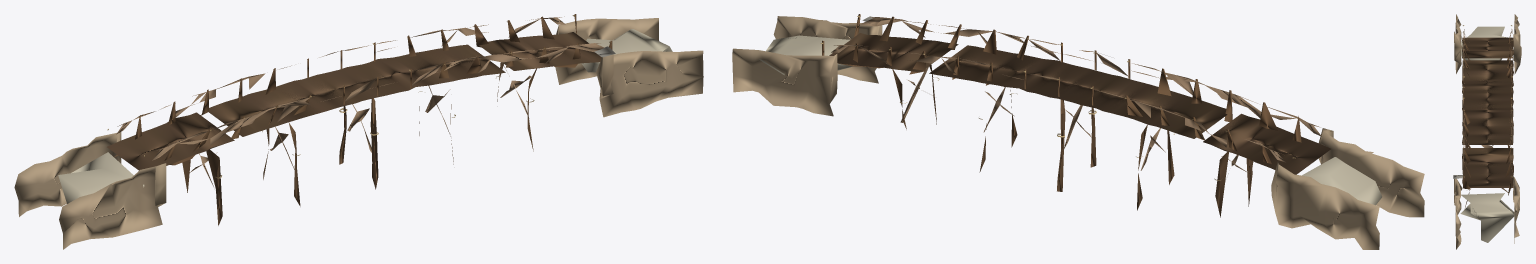
Rendered from country_bridge_timber.glb.
The picture shows the model from 3 angles, left to right: view 1: azimuth 30°, elevation 25°; view 2: azimuth 150°, elevation 25°; view 3: azimuth 270°, elevation 25°; orthographic projection. The views are drawn at different scales.
Visible parts, largest first — view 1: drystone, plank, wood_dark, wood, paving; view 2: drystone, plank, wood_dark, wood, paving; view 3: plank, paving, drystone, wood_dark, wood, rope.
Boxes of the visible parts, x1,y1,x2,y2 form: drystone: (14,18,703,249); plank: (107,32,601,170); wood_dark: (114,14,612,225); wood: (116,16,604,186); paving: (58,29,672,203); drystone: (732,16,1424,249); plank: (829,33,1330,174); wood_dark: (822,14,1301,217); wood: (831,17,1321,180); paving: (759,35,1382,205); plank: (1462,37,1513,187); paving: (1460,26,1515,242); drystone: (1454,14,1521,249); wood_dark: (1463,31,1511,207); wood: (1463,29,1512,193); rope: (1462,25,1512,177).
Bounding box in the file's own units: 38.42 × 6.58 × 5.36.
